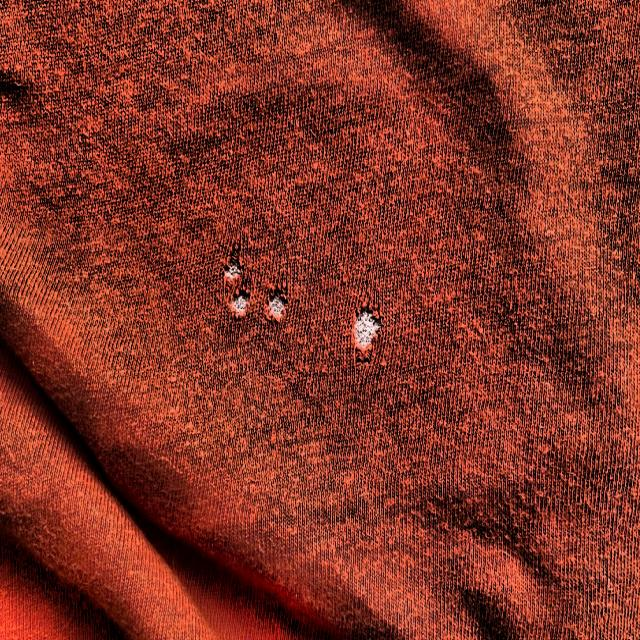Hole: (343, 290, 391, 373), (258, 280, 297, 334), (218, 228, 248, 288), (227, 286, 257, 328)
